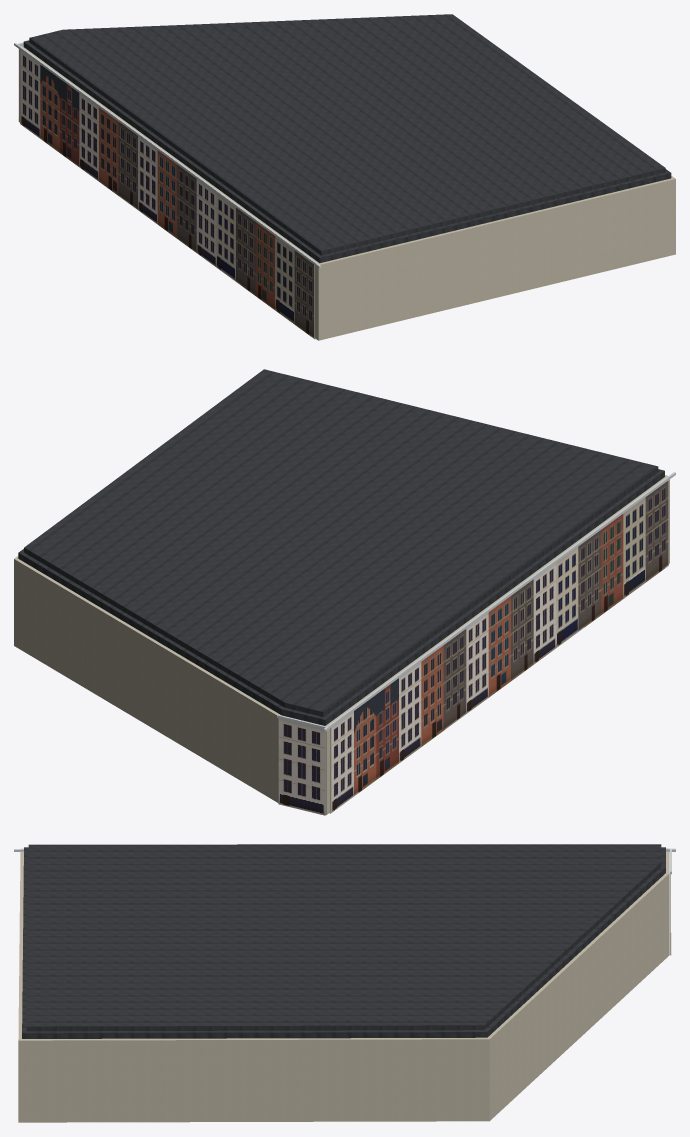
The picture shows the model from 3 angles, top to bottom: view 1: azimuth 30°, elevation 25°; view 2: azimuth 150°, elevation 25°; view 3: azimuth 270°, elevation 25°; orthographic projection. The views are drawn at different scales.
Visible parts, largest first — view 1: bldg_1418676306_roof_b, bldg_1418676306, bldg_1418676306_facade1, bldg_1418676306_roof_a; view 2: bldg_1418676306_roof_b, bldg_1418676306_facade1, bldg_1418676306, bldg_1418676306_roof_a, bldg_1418676306_facade0; view 3: bldg_1418676306_roof_b, bldg_1418676306, bldg_1418676306_roof_a.
Part boxes in pixels (box(x1,y1,x2,y2)): bldg_1418676306_roof_b: box(29, 14, 665, 255); bldg_1418676306: box(19, 45, 675, 340); bldg_1418676306_facade1: box(14, 43, 320, 339); bldg_1418676306_roof_a: box(23, 40, 671, 263); bldg_1418676306_roof_b: box(24, 369, 658, 716); bldg_1418676306_facade1: box(323, 472, 675, 813); bldg_1418676306: box(14, 475, 669, 814); bldg_1418676306_roof_a: box(18, 469, 664, 725); bldg_1418676306_facade0: box(277, 715, 326, 815); bldg_1418676306_roof_b: box(26, 844, 661, 1031); bldg_1418676306: box(18, 851, 669, 1122); bldg_1418676306_roof_a: box(22, 847, 665, 1038).
Size of the model in its own units: 69.59 by 15.8 by 102.
Materials: 5 (3 with a texture image).
